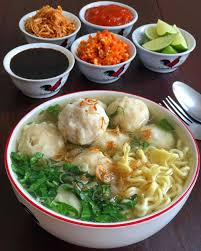bakso: (8, 88, 175, 182)
